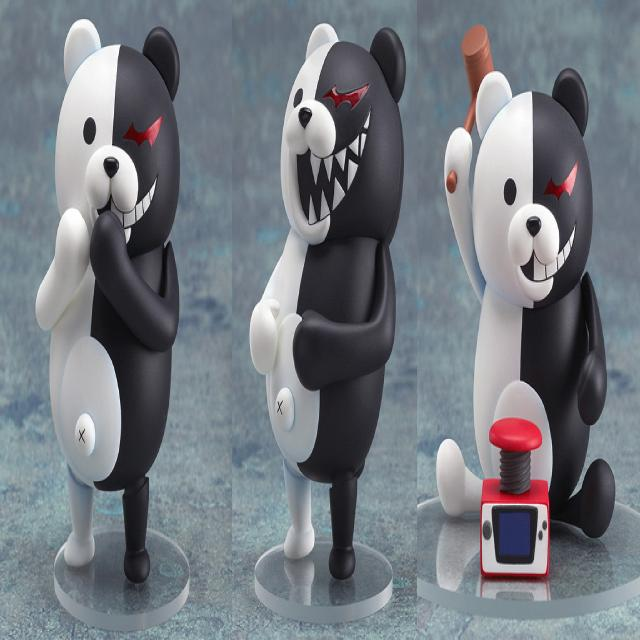Bear: (248, 27, 405, 580), (434, 68, 616, 540), (35, 15, 182, 584)
